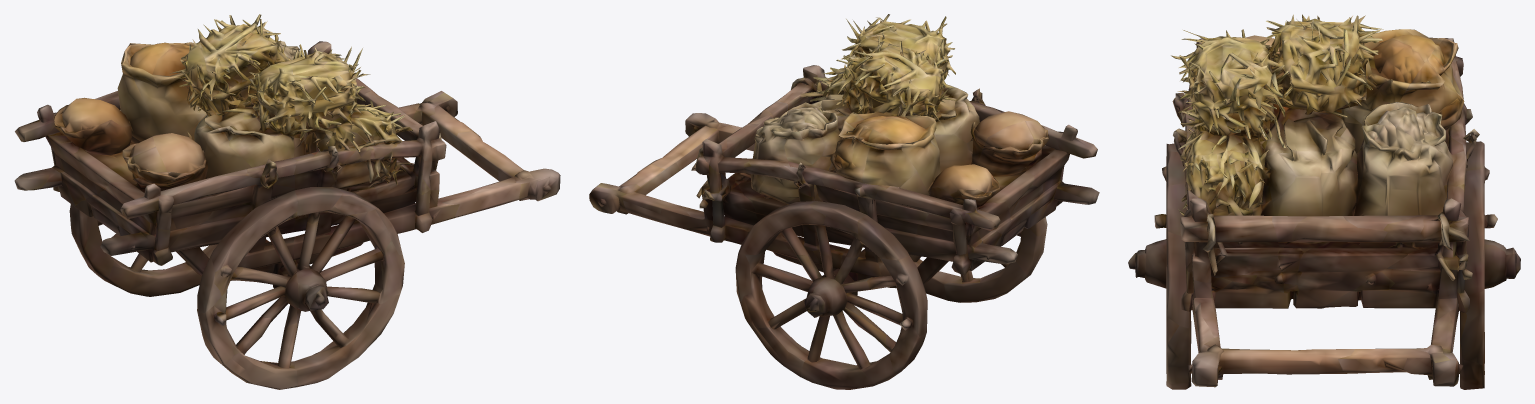
File: haycart-low.glb
3 renders of one model, left to right at view 1: azimuth 30°, elevation 25°; view 2: azimuth 150°, elevation 25°; view 3: azimuth 270°, elevation 25°, orthographic. The views are drawn at different scales.
Size of the model in its own units: 0.9994 by 0.6804 by 0.6603.
Materials: 1 (1 with a texture image).
